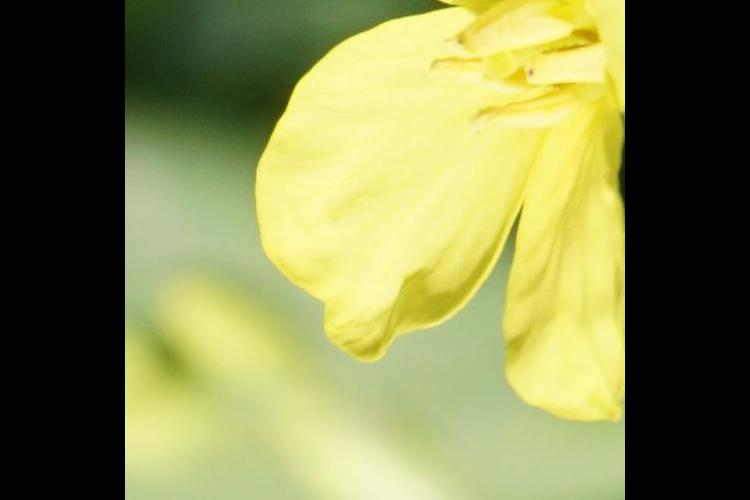yellow: (294, 1, 624, 405)
